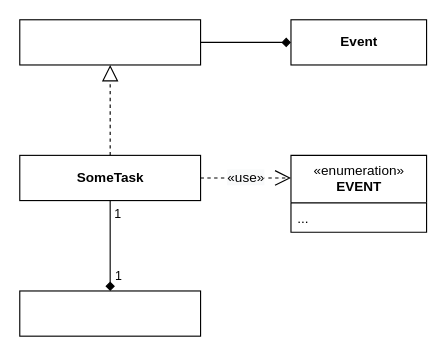
The diagram is 446 pixels wide and 356 high, and some of its shapes have lost their labels. The box of each missing label's shape, as (x1, y1, x2, y2) in pixels:
SomeDriver: (19, 290, 201, 336)
«abstract» Task: (19, 19, 201, 65)
